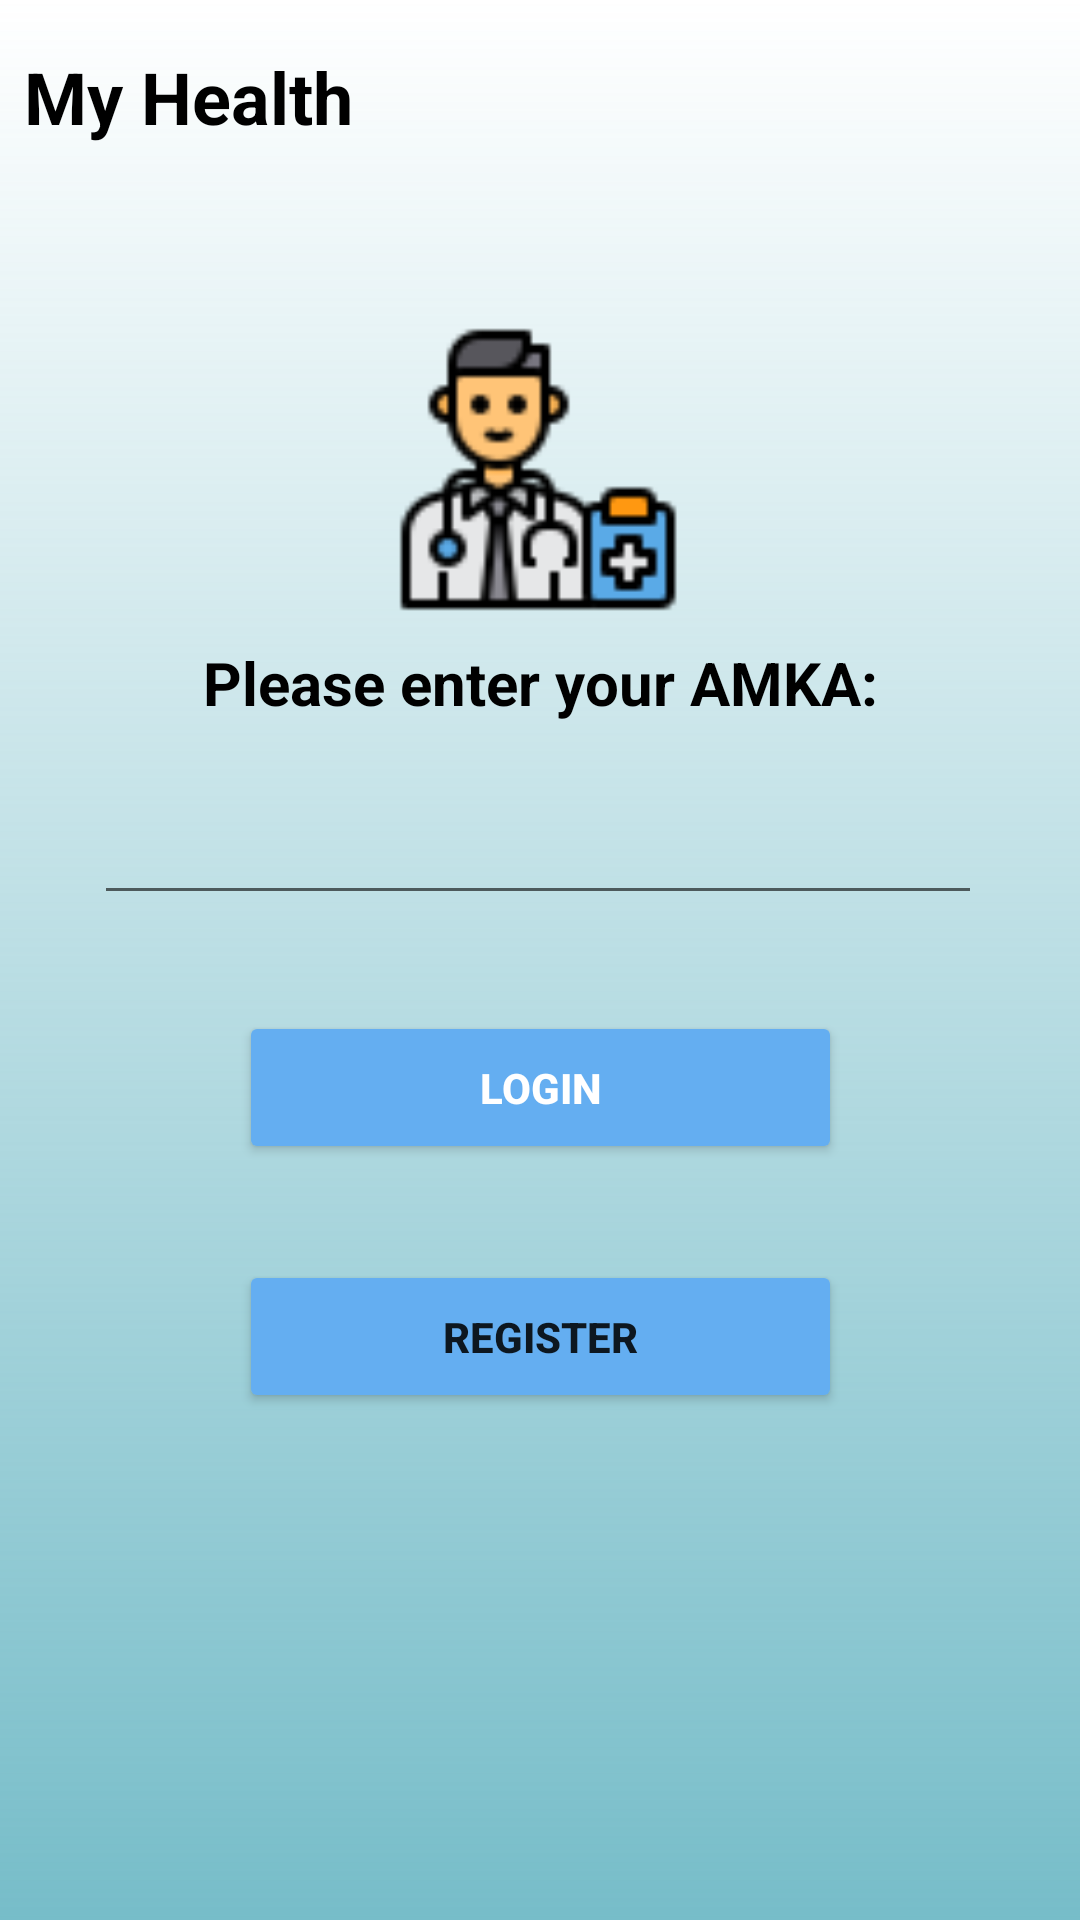

Where icons sit on this 1080x1920 app screen, as (x1, y1, x2, y2):
doctor: (399, 329, 677, 611)
